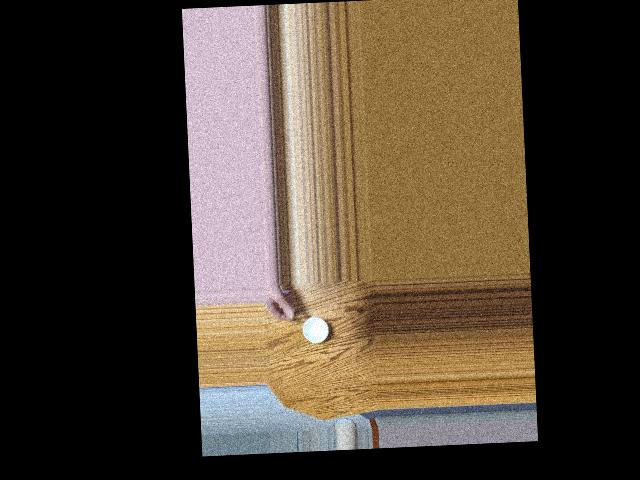cotage: (299, 312, 327, 343)
